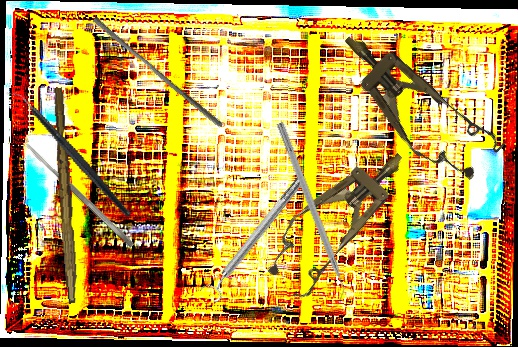Chopper: (5, 65, 132, 242), (266, 121, 353, 307)
Fixation Ring: (197, 172, 312, 305)
Pusher: (88, 16, 228, 128)
Scalpel Handle: (49, 87, 83, 304)
Spatula Surgical: (23, 141, 136, 249)
Speculum: (322, 13, 507, 194), (253, 131, 426, 306)
